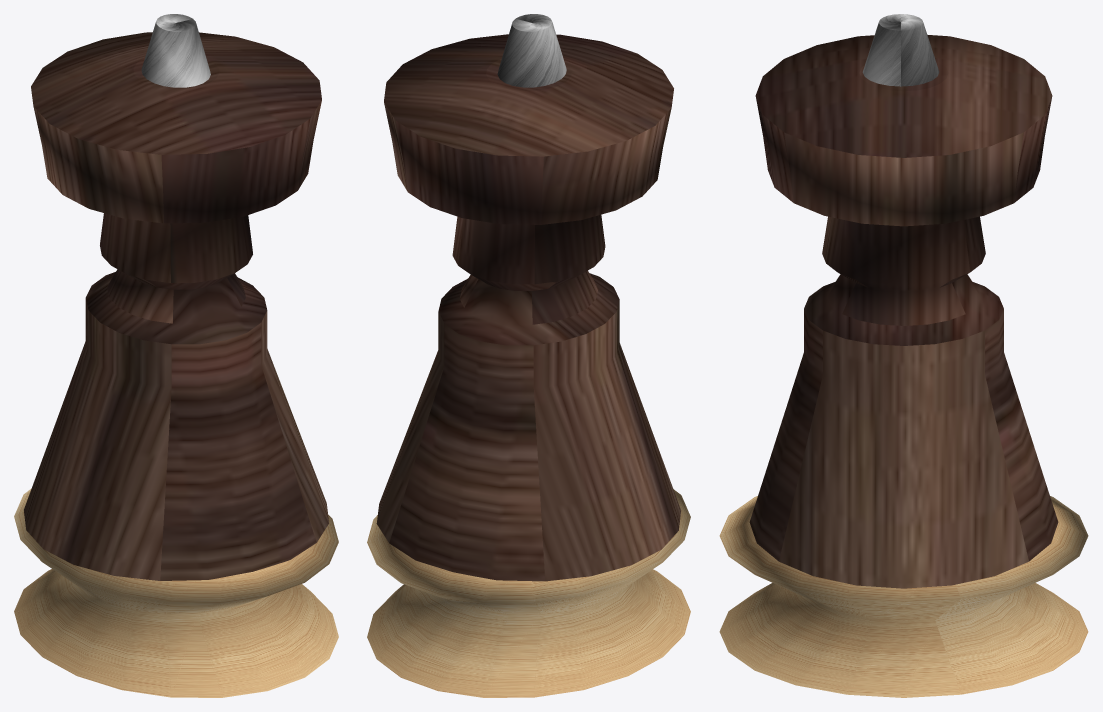
Rendered from shaker.fbx.
3 views of the same model, side by side, from view 1: azimuth 30°, elevation 25°; view 2: azimuth 150°, elevation 25°; view 3: azimuth 270°, elevation 25° (orthographic).
Parts seen in each view (by area): view 1: pPipe3; view 2: pPipe3; view 3: pPipe3.
Boxes of the visible parts, x1,y1,x2,y2 form: pPipe3: (14, 14, 338, 697); pPipe3: (367, 14, 690, 697); pPipe3: (719, 14, 1088, 697).
Size of the model in its own units: 2.51 by 5.37 by 2.95.
